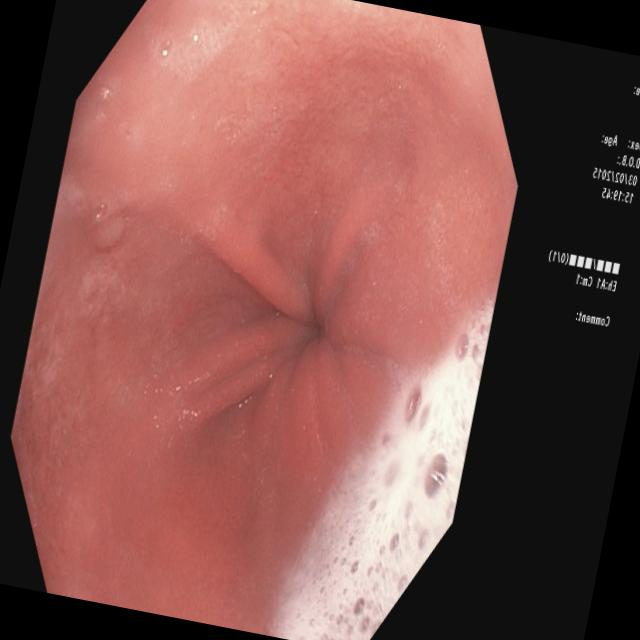Normal-Z-Line: (164, 25, 514, 606)
